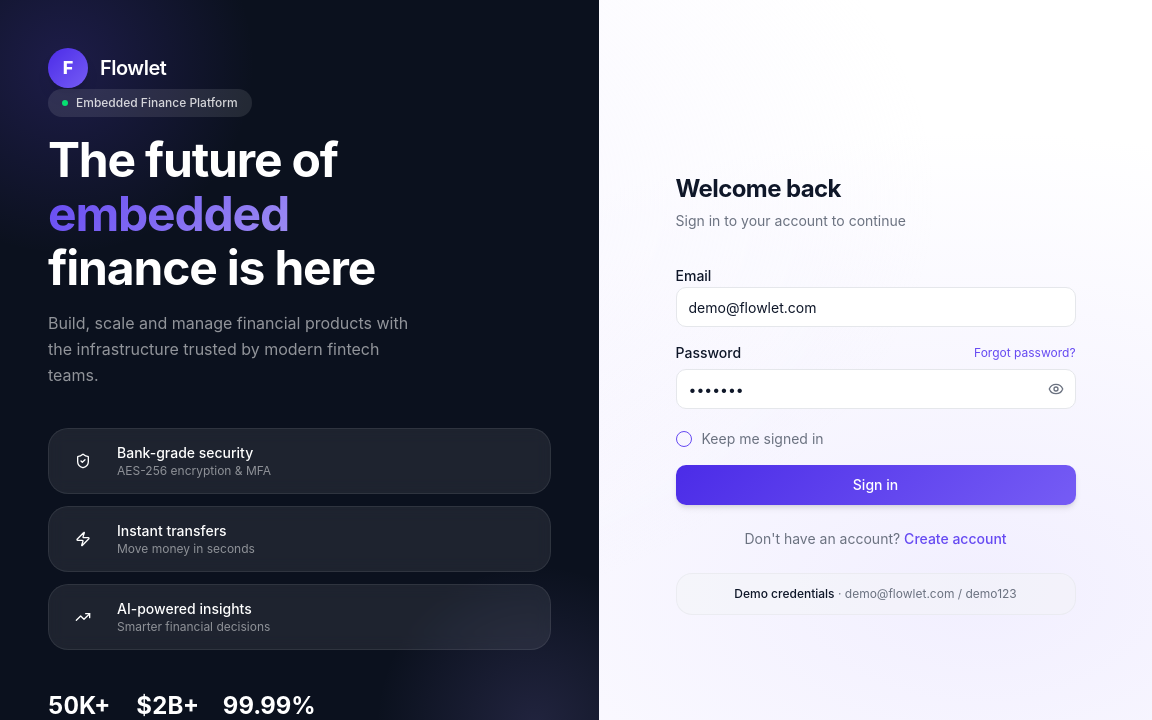
Scenario: LoginScreen › shows validation error for invalid email
The width and height of the screenshot is (1152, 720).
Replace the text in the field labelled "Email" with "not-an-email". click: (876,307)
box: [676, 287, 1076, 327]
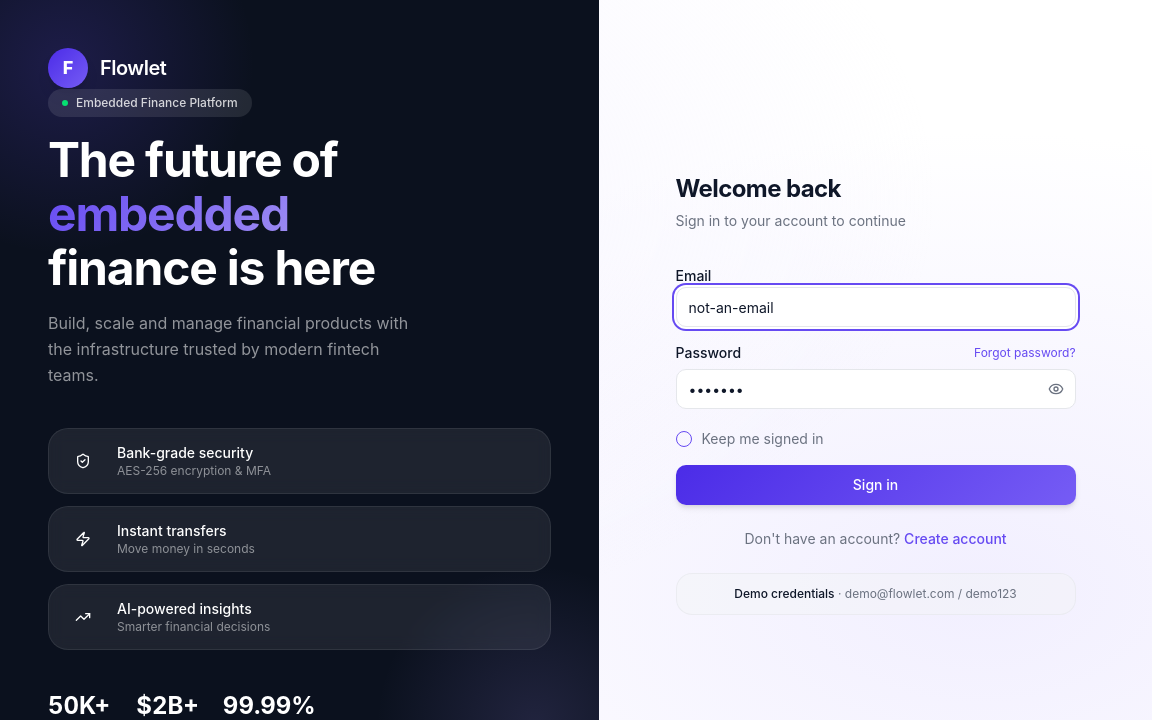
Submit the form from the button "Sign in", box [676, 465, 1076, 505]
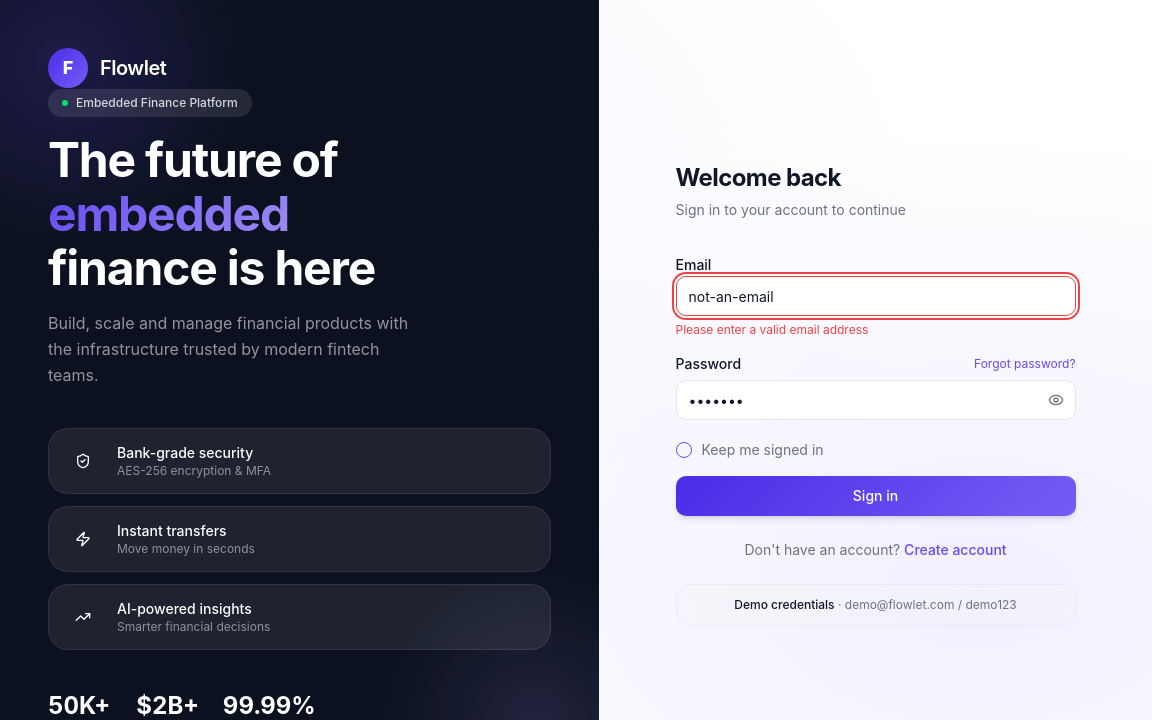
Now the text "Please enter a valid email address" is shown, box [676, 322, 868, 337]
